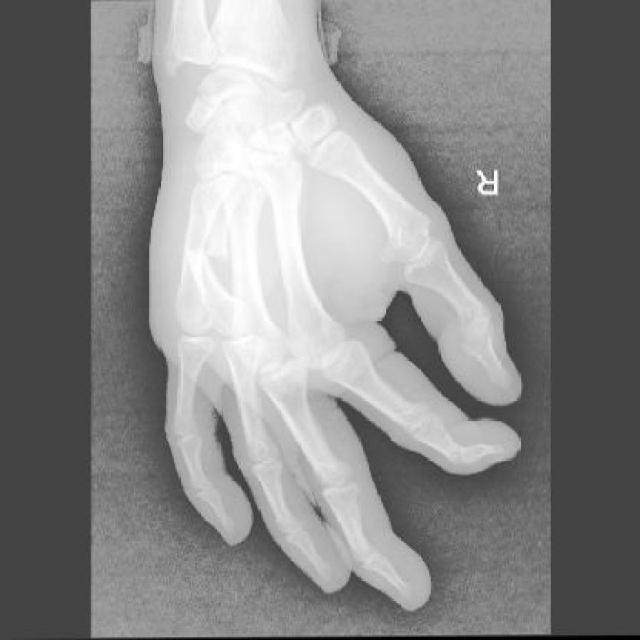Fracture: (182, 238, 239, 278)
